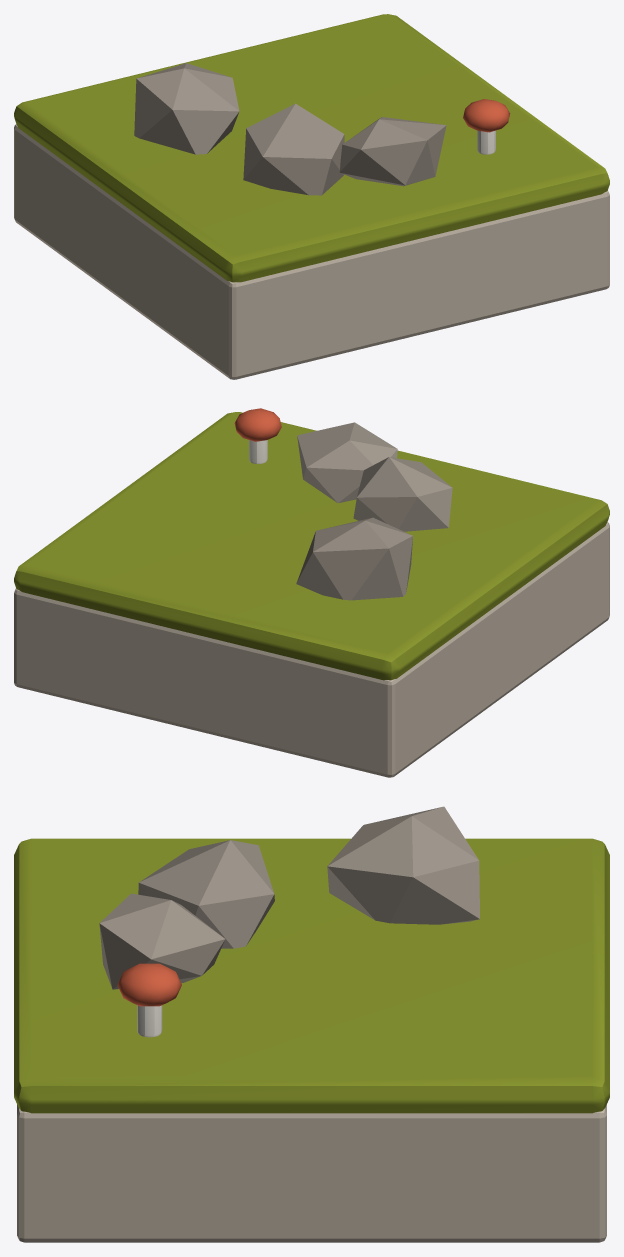
The model's file is tile_stone_mossy.glb.
The picture shows the model from 3 angles, top to bottom: view 1: azimuth 30°, elevation 25°; view 2: azimuth 150°, elevation 25°; view 3: azimuth 270°, elevation 25°; orthographic projection. The views are drawn at different scales.
Parts seen in each view (by area): view 1: sm_cap, sm_body, sm_r0, sm_r1, sm_r2, smm_cap; view 2: sm_cap, sm_body, sm_r0, sm_r1, sm_r2, smm_cap; view 3: sm_cap, sm_body, sm_r0, sm_r1, sm_r2, smm_cap, smm_stem.
Boxes of the visible parts, left/top/right/bottom form: sm_cap: left=14, top=14, right=609, bottom=282; sm_body: left=14, top=124, right=609, bottom=379; sm_r0: left=134, top=63, right=239, bottom=154; sm_r1: left=243, top=103, right=344, bottom=195; sm_r2: left=339, top=117, right=446, bottom=186; smm_cap: left=463, top=99, right=510, bottom=132; sm_cap: left=14, top=412, right=609, bottom=680; sm_body: left=14, top=522, right=609, bottom=777; sm_r0: left=296, top=517, right=412, bottom=600; sm_r1: left=353, top=457, right=452, bottom=531; sm_r2: left=297, top=422, right=397, bottom=503; smm_cap: left=234, top=408, right=281, bottom=441; sm_cap: left=14, top=838, right=609, bottom=1113; sm_body: left=17, top=1104, right=606, bottom=1242; sm_r0: left=327, top=806, right=479, bottom=924; sm_r1: left=138, top=840, right=274, bottom=948; sm_r2: left=99, top=893, right=225, bottom=989; smm_cap: left=117, top=963, right=181, bottom=1006; smm_stem: left=137, top=1005, right=162, bottom=1037.
Bounding box in the file's own units: 2.02 × 0.935 × 2.02.
